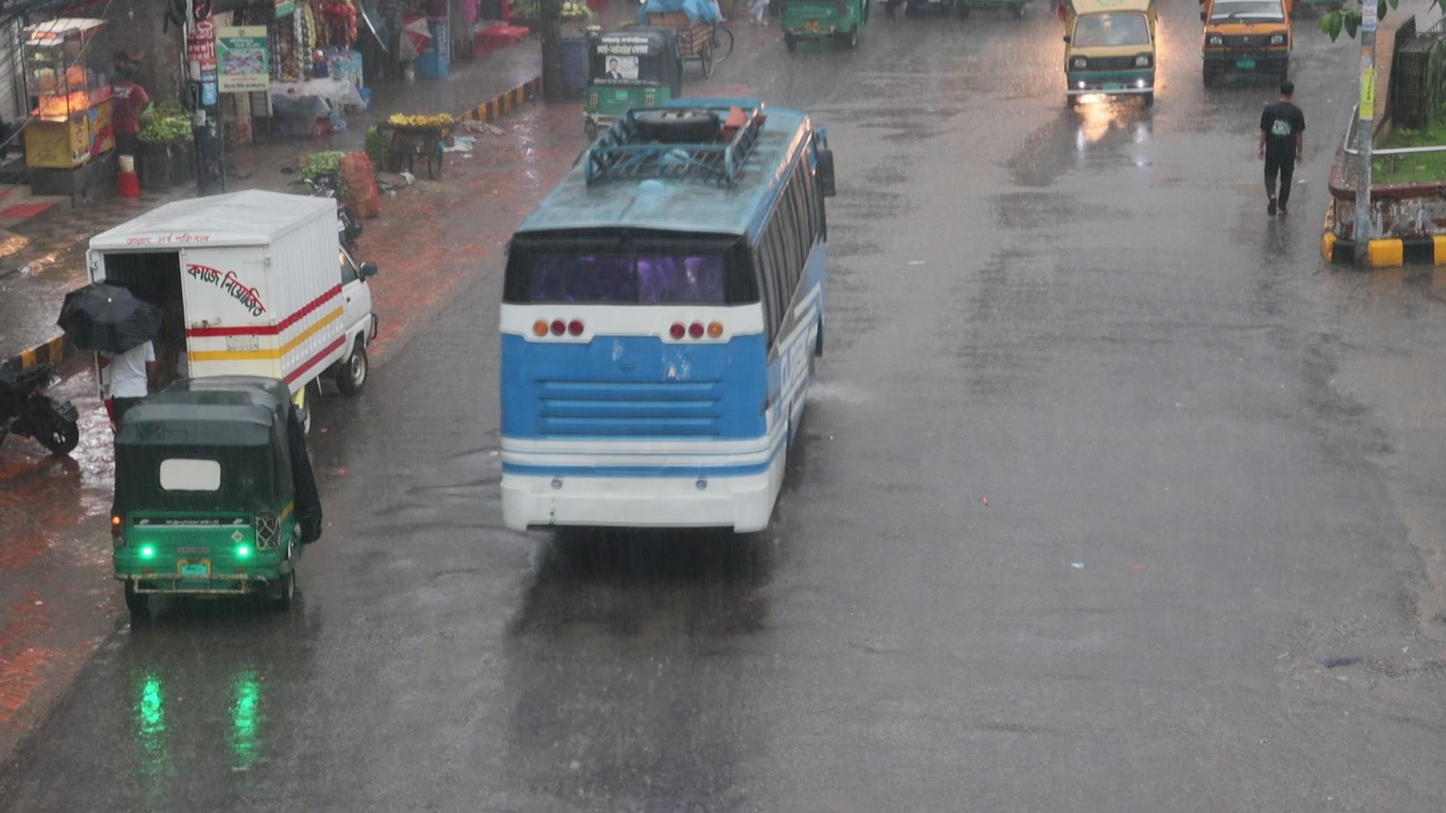Bus: (493, 86, 840, 550)
Truck: (1061, 0, 1161, 103)
